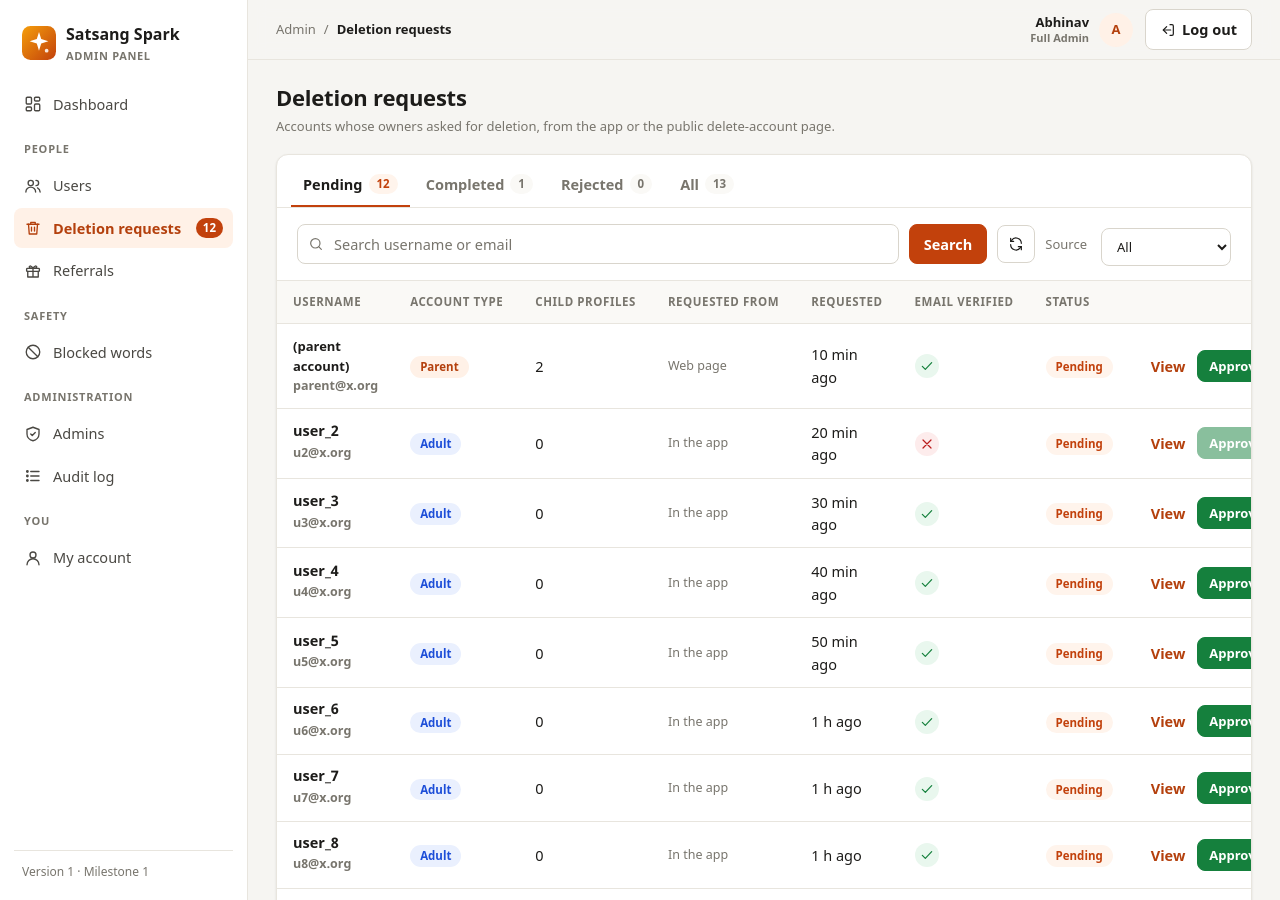
it: view panel shows the child profiles; approve a parent account by typing its email, then the list reloads
Click the button "View" in the row of "(parent account)".
click(1168, 366)  # box [1145,350,1191,381]
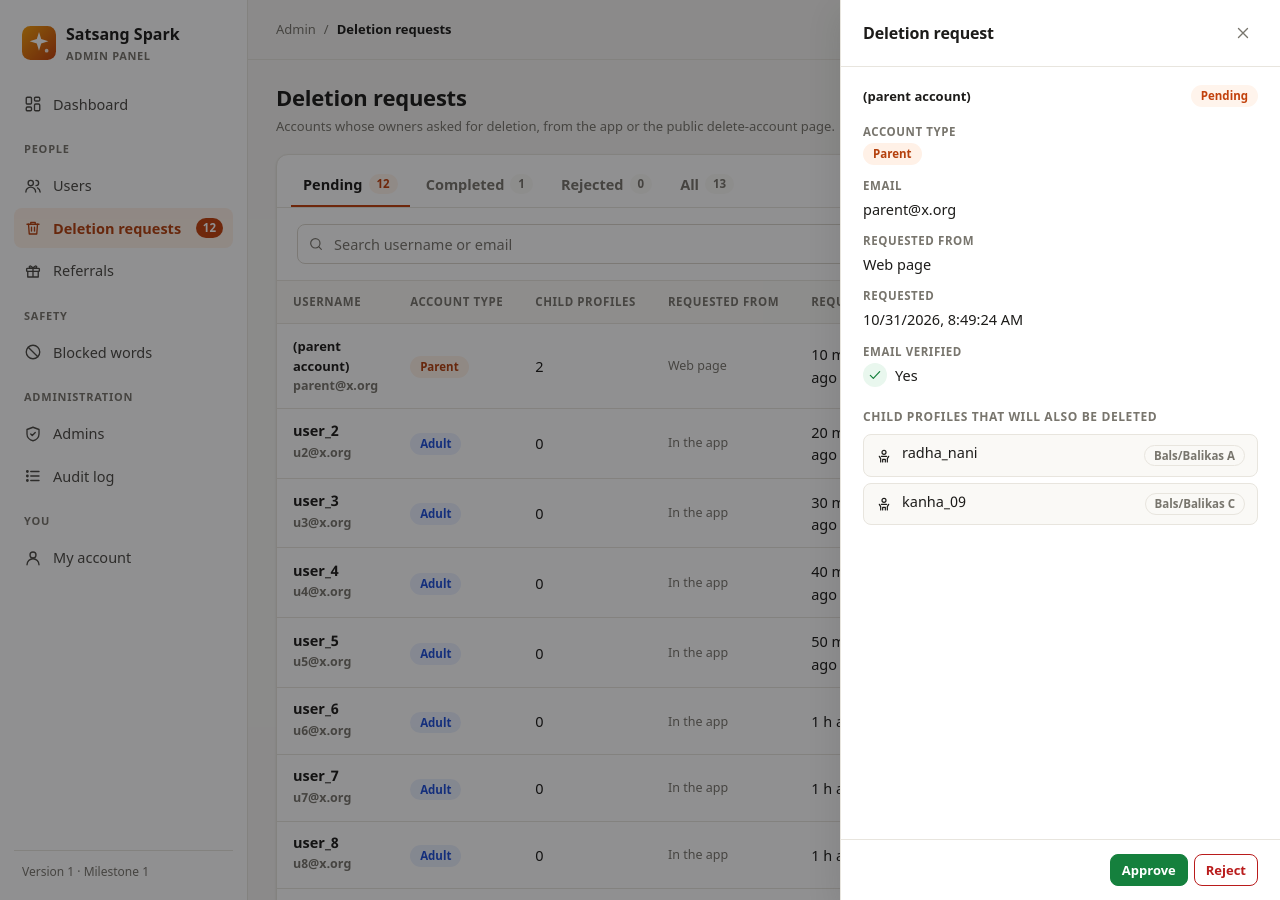
Check: the text "radha_nani" is shown, box [902,444,978,467]
Check: the text "Bals/Balikas C" is shown, box [1144,493,1245,515]
Click the button "Approve".
click(1149, 870)  # box [1110,854,1188,886]
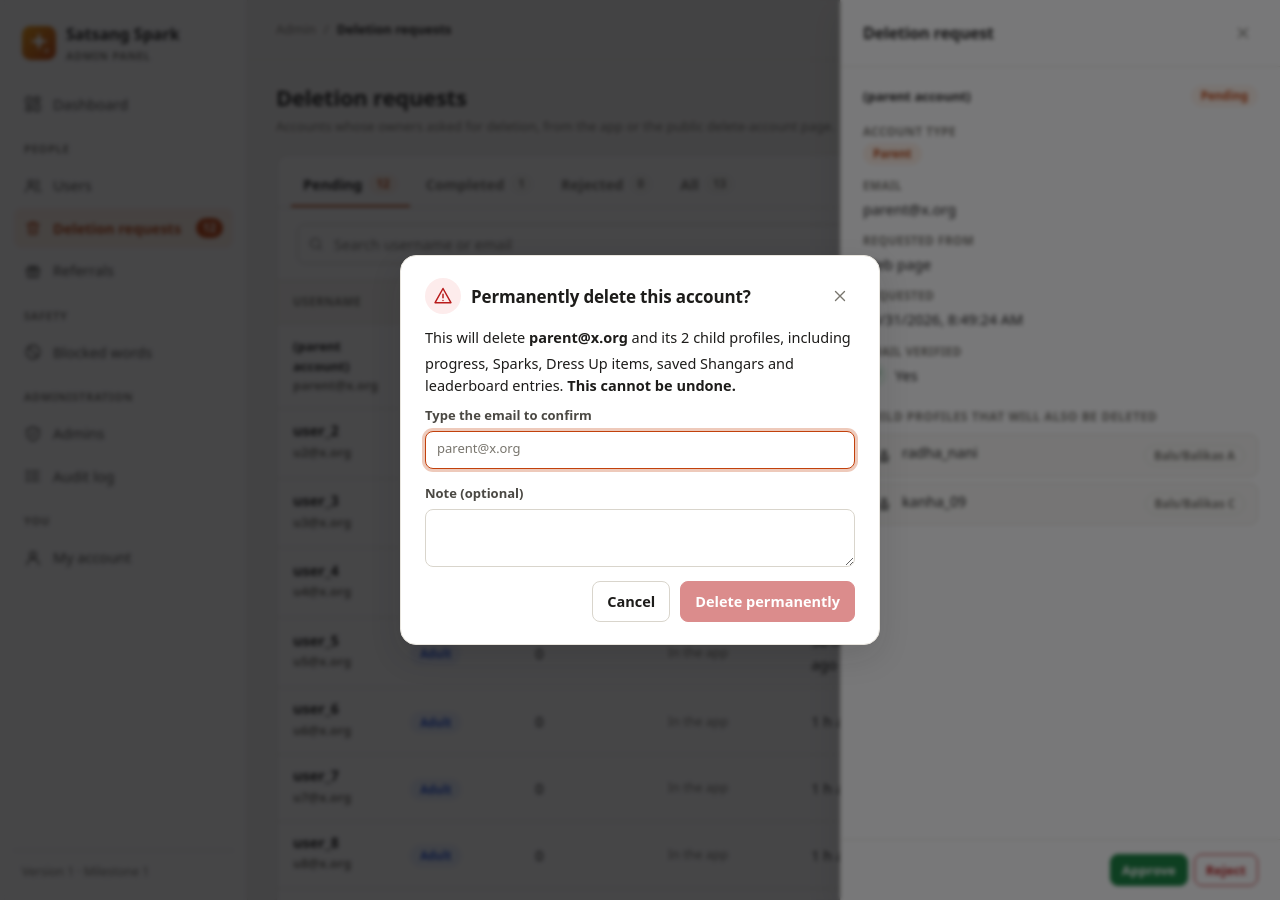
Check: the dialog "Permanently delete this account?" shows "This will delete parent@x.org and its 2 child profiles, including progress, Sparks, Dress Up items, saved Shangars and leaderboard entries. This cannot be undon", box [400,255,880,645]
Type "parent@x.or" into the field labelled "Type the email to confirm".
click(640, 450); type("parent@x.or")  # box [425,431,855,469]
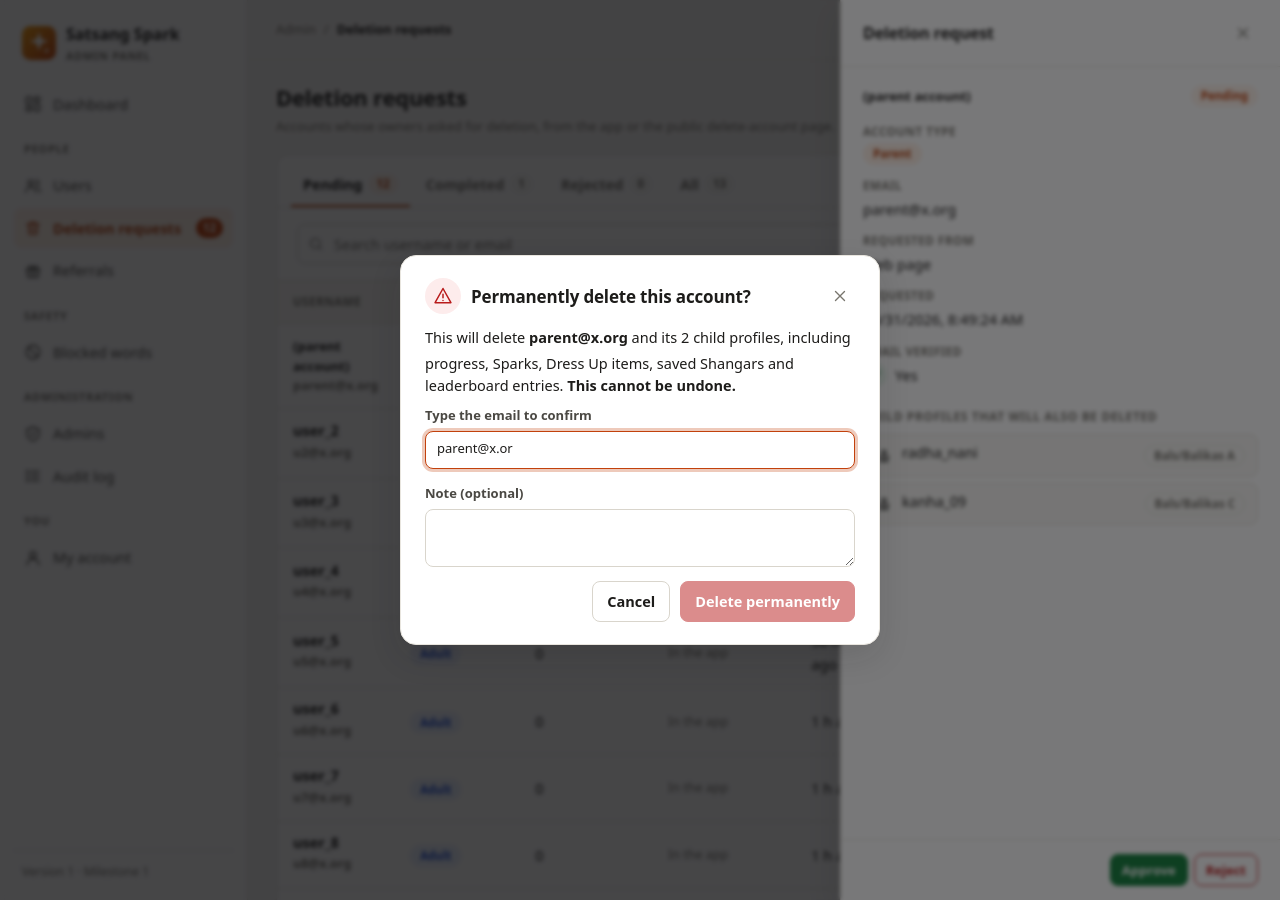
Check: the button "Delete permanently" is disabled, box [680,581,855,622]
Type "g" into the field labelled "Type the email to confirm".
click(640, 450); type("g")  # box [425,431,855,469]
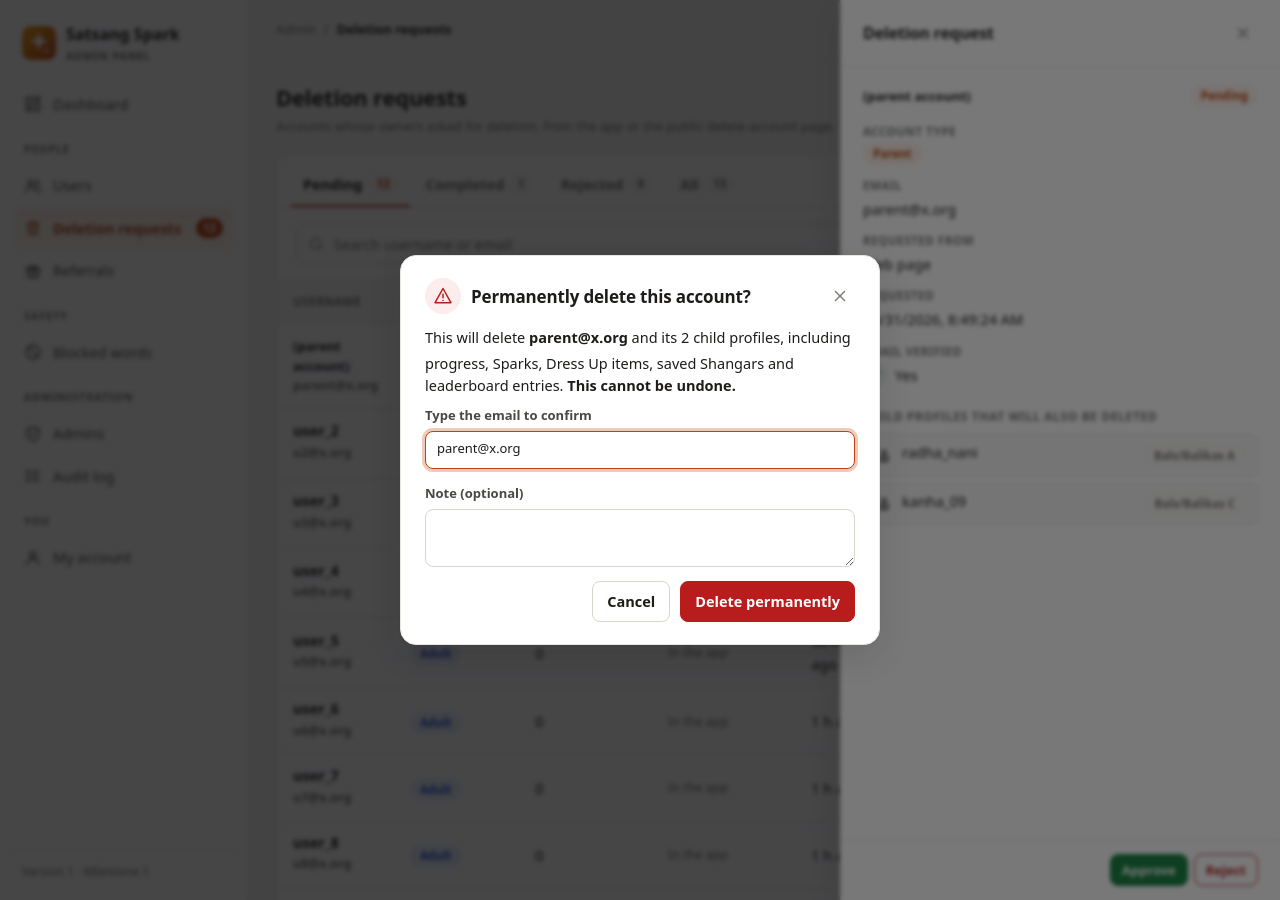
Click the button "Delete permanently".
click(768, 602)  # box [680,581,855,622]
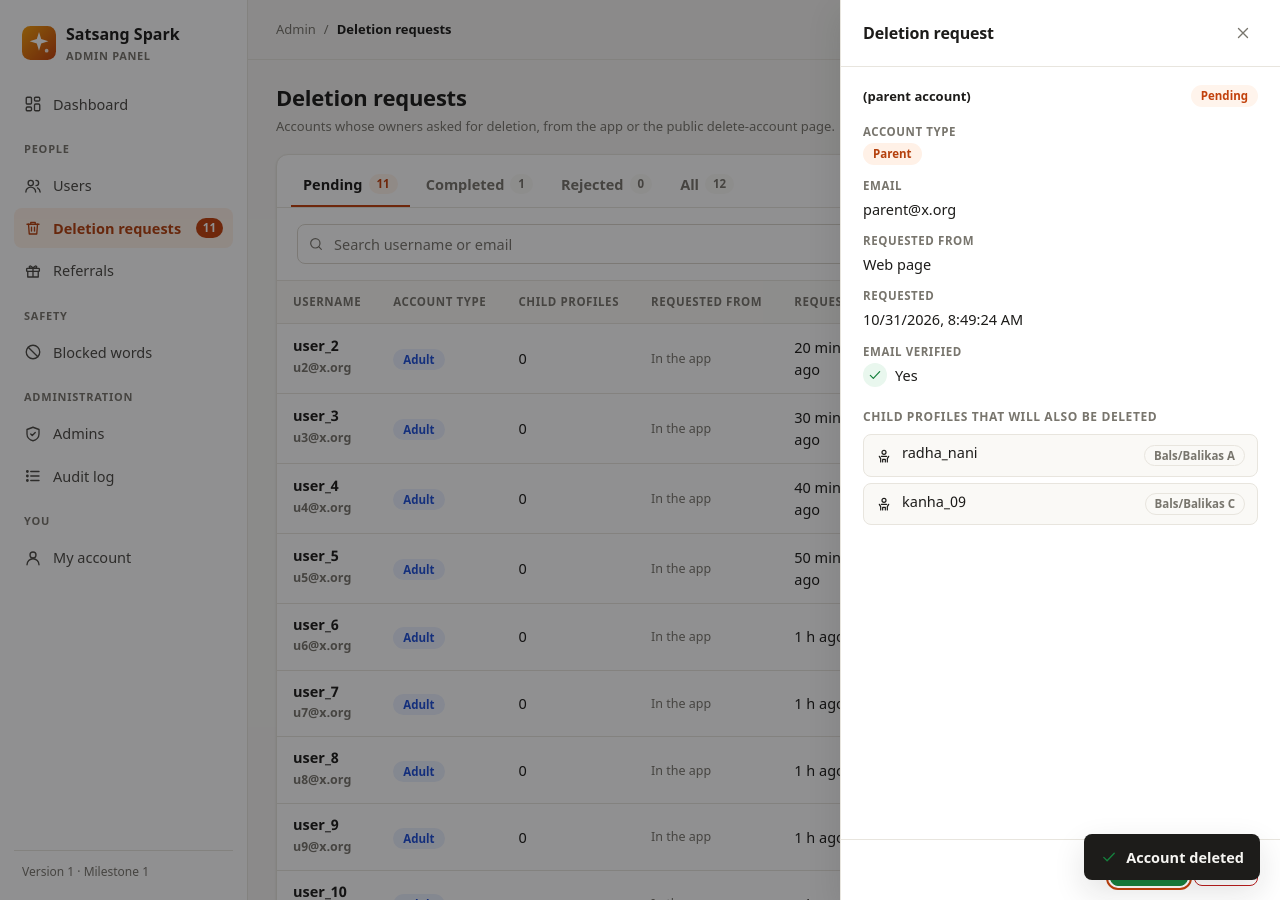
Check: the text "Account deleted" is shown, box [1084,834,1260,880]
Check: the button "Pending 11" is shown, box [291,165,410,207]
Check: the link "Deletion requests 11" is shown, box [14,208,233,248]
